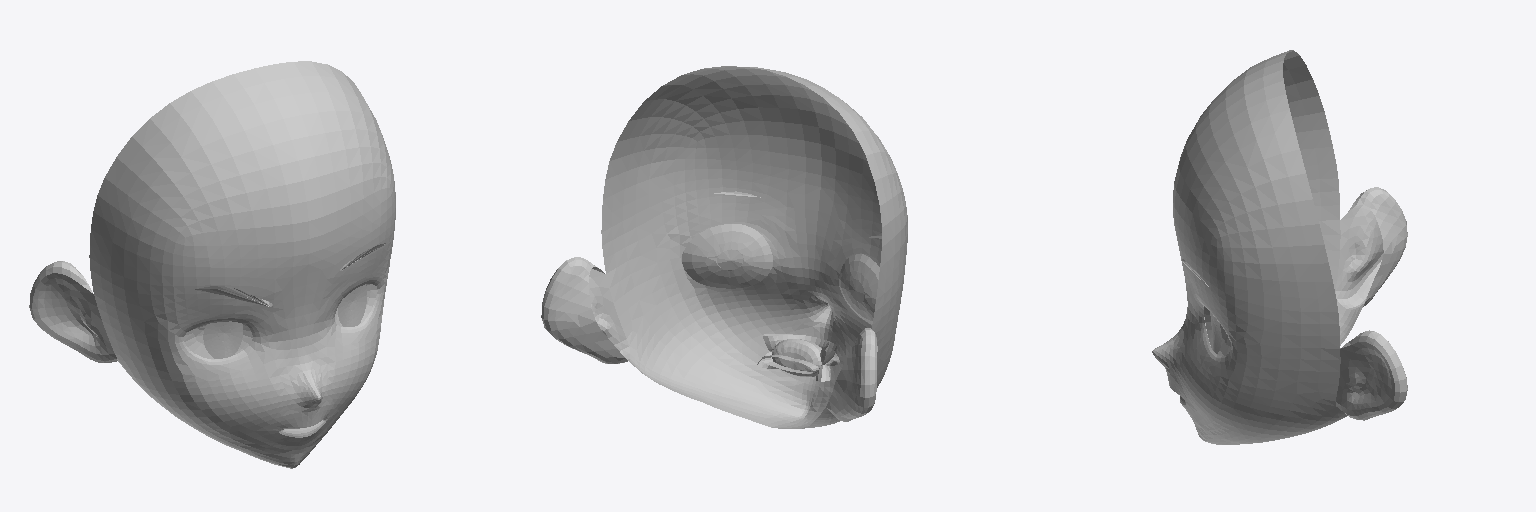
The model's file is noseSneerRight.obj.
3 views of the same model, side by side, from view 1: azimuth 30°, elevation 25°; view 2: azimuth 150°, elevation 25°; view 3: azimuth 270°, elevation 25° (orthographic).
Visible parts, largest first — view 1: Face; view 2: Face; view 3: Face.
Boxes of the visible parts, x1=… form: Face: x1=29, y1=61, x2=395, y2=468; Face: x1=541, y1=66, x2=907, y2=428; Face: x1=1152, y1=50, x2=1407, y2=444.
Size of the model in its own units: 0.2176 by 0.2333 by 0.1449.